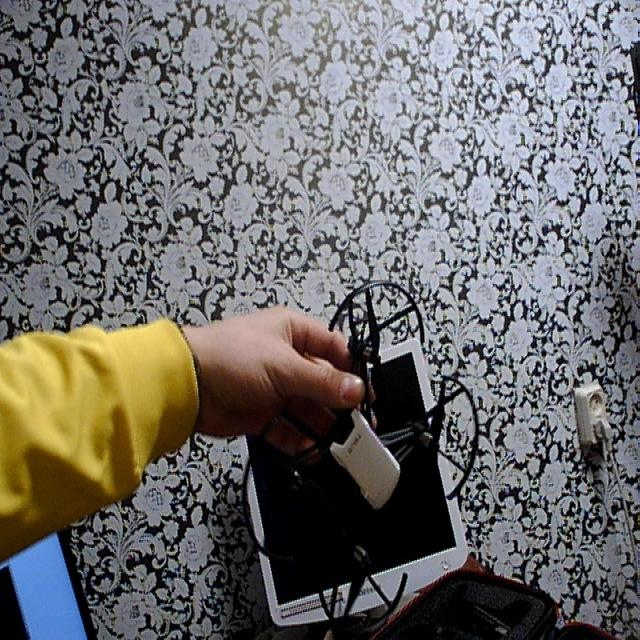drone: (239, 273, 489, 640)
